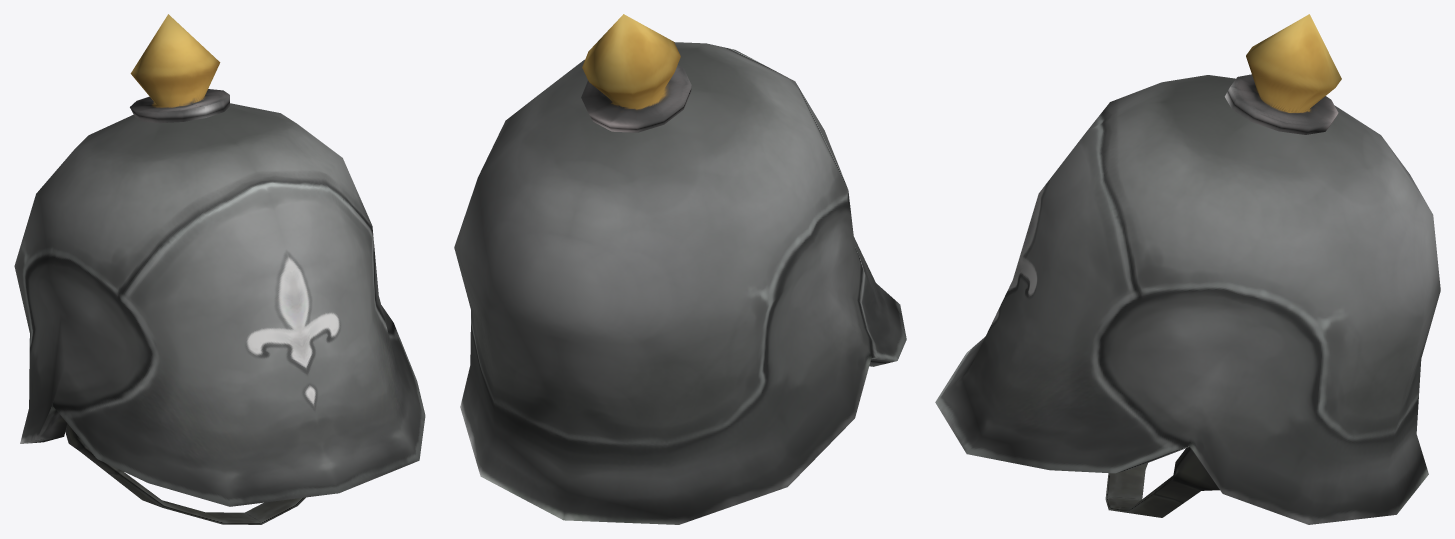
File: Helm_iron.fbx
3 views of the same model, side by side, from view 1: azimuth 30°, elevation 25°; view 2: azimuth 150°, elevation 25°; view 3: azimuth 270°, elevation 25° (orthographic). The views are drawn at different scales.
Parts seen in each view (by area): view 1: Helm_iron; view 2: Helm_iron; view 3: Helm_iron.
Part boxes in pixels (x1,y1,x2,y2): Helm_iron: [14, 14, 425, 524]; Helm_iron: [454, 14, 906, 524]; Helm_iron: [935, 14, 1440, 524].
Size of the model in its own units: 5.29 by 6.59 by 6.19.
